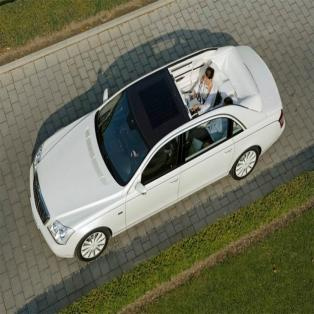Auto: (28, 41, 286, 263)
